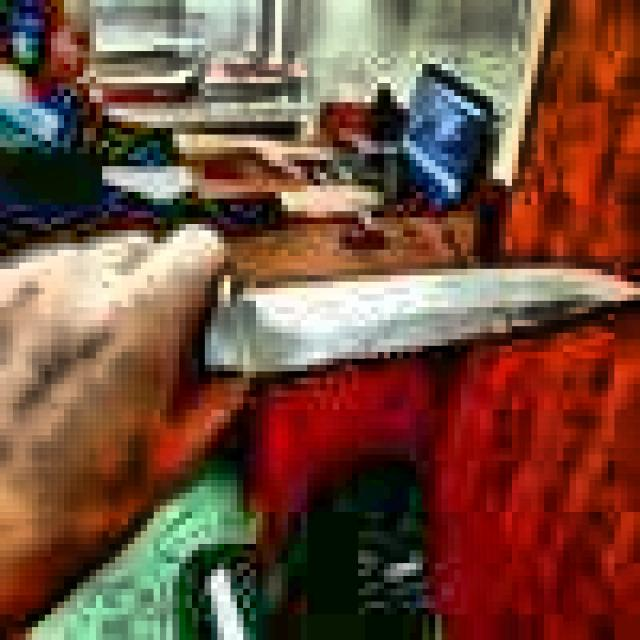knife: (200, 266, 634, 378)
